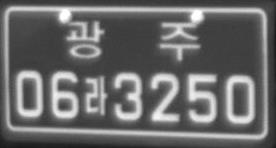0: (224, 73, 256, 124), (15, 70, 43, 118)
2: (150, 71, 180, 123)
3: (113, 71, 142, 119)
5: (187, 72, 218, 123)
6: (50, 69, 80, 119)
광주_D: (65, 20, 200, 60)
라: (83, 76, 108, 116)
